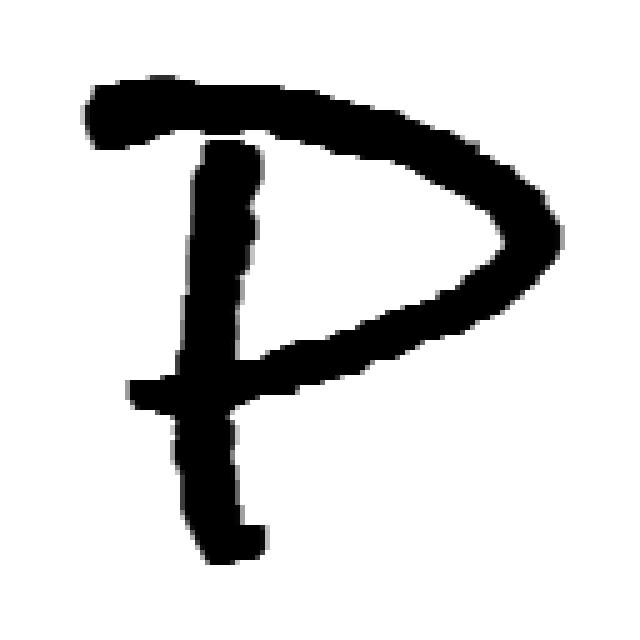P: (158, 69, 564, 624)
